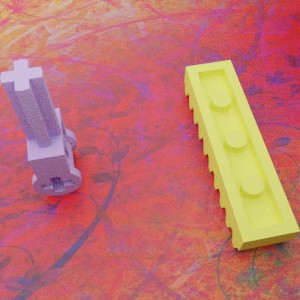lego: (184, 60, 300, 250), (0, 59, 81, 195)
